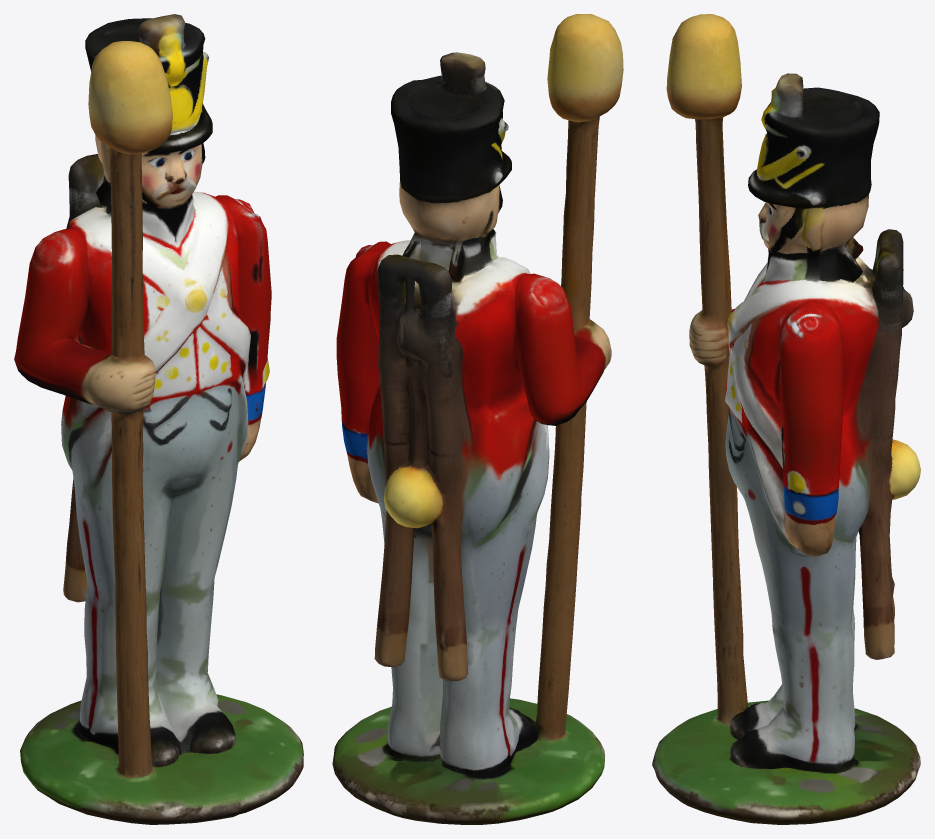
The model's file is gunner.glb.
3 views of the same model, side by side, from view 1: azimuth 30°, elevation 25°; view 2: azimuth 150°, elevation 25°; view 3: azimuth 270°, elevation 25° (orthographic). The views are drawn at different scales.
Visible parts, largest first — view 1: world; view 2: world; view 3: world.
Part boxes in pixels (bbox=[...]): world: bbox=[14, 14, 303, 824]; world: bbox=[332, 14, 623, 824]; world: bbox=[652, 14, 920, 824].
Size of the model in its own units: 0.3386 by 1 by 0.3379.
1 material, 1 textured.
